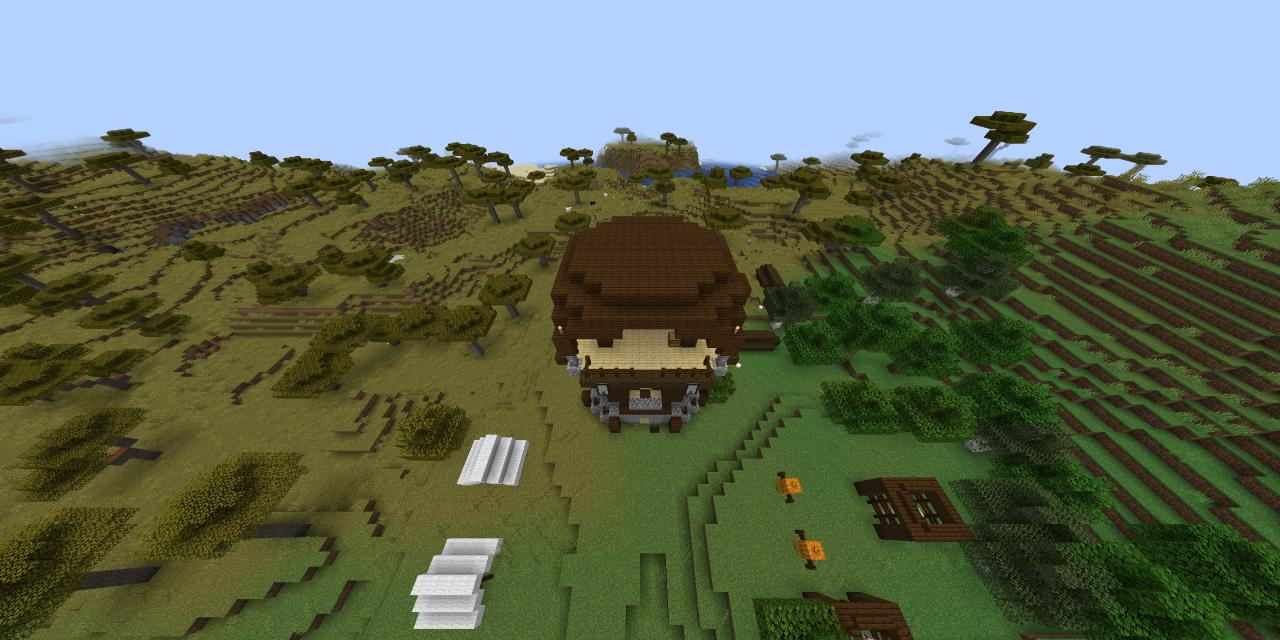pillager outpost: (544, 206, 768, 459)
